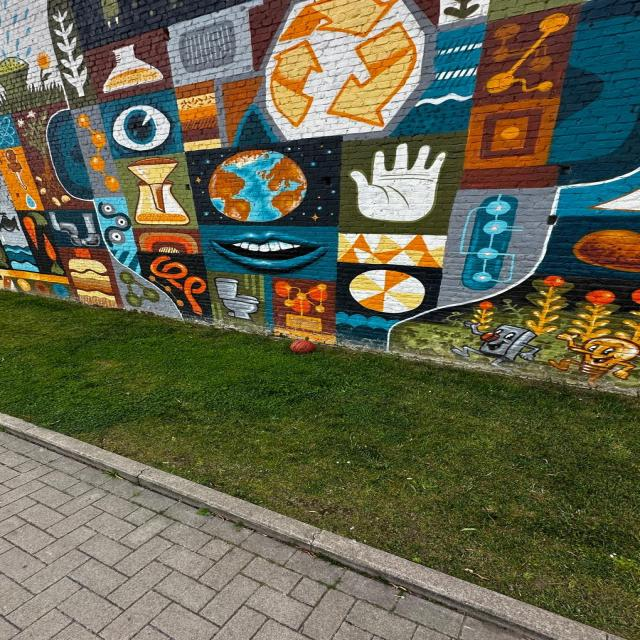Basketball: (290, 340, 315, 353)
